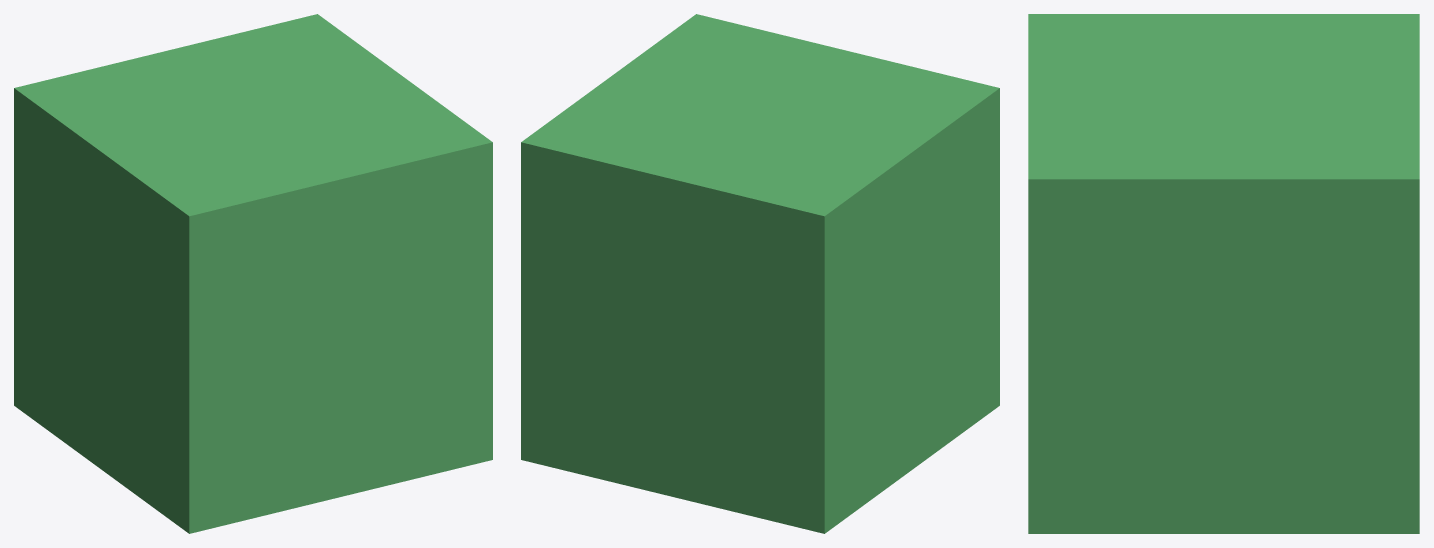
File: CubeTest.FBX
3 renders of one model, left to right at view 1: azimuth 30°, elevation 25°; view 2: azimuth 150°, elevation 25°; view 3: azimuth 270°, elevation 25°, orthographic. The views are drawn at different scales.
Visible parts, largest first — view 1: Box002; view 2: Box002; view 3: Box002.
Part boxes in pixels (left/top/right/bottom): Box002: left=14, top=14, right=492, bottom=533; Box002: left=521, top=14, right=999, bottom=533; Box002: left=1028, top=14, right=1419, bottom=533.
Size of the model in its own units: 50 by 50 by 50.
